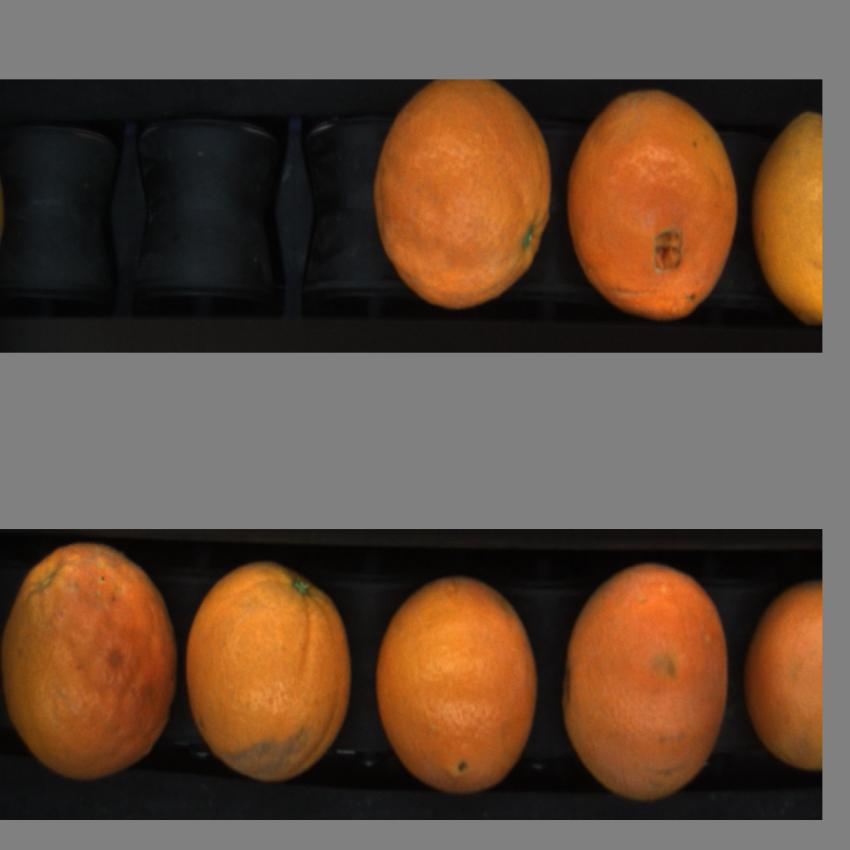Buen estado: (372, 568, 543, 797), (186, 560, 356, 784), (750, 107, 824, 334), (744, 563, 822, 772)
Mal estado: (370, 82, 556, 314), (565, 89, 742, 330), (558, 562, 735, 802), (3, 548, 180, 785)
